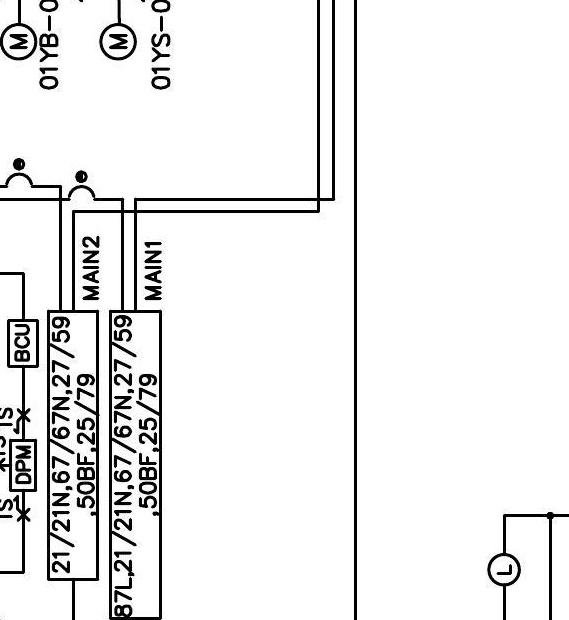BCU: (6, 318, 40, 369)
DPM: (8, 439, 38, 493)
